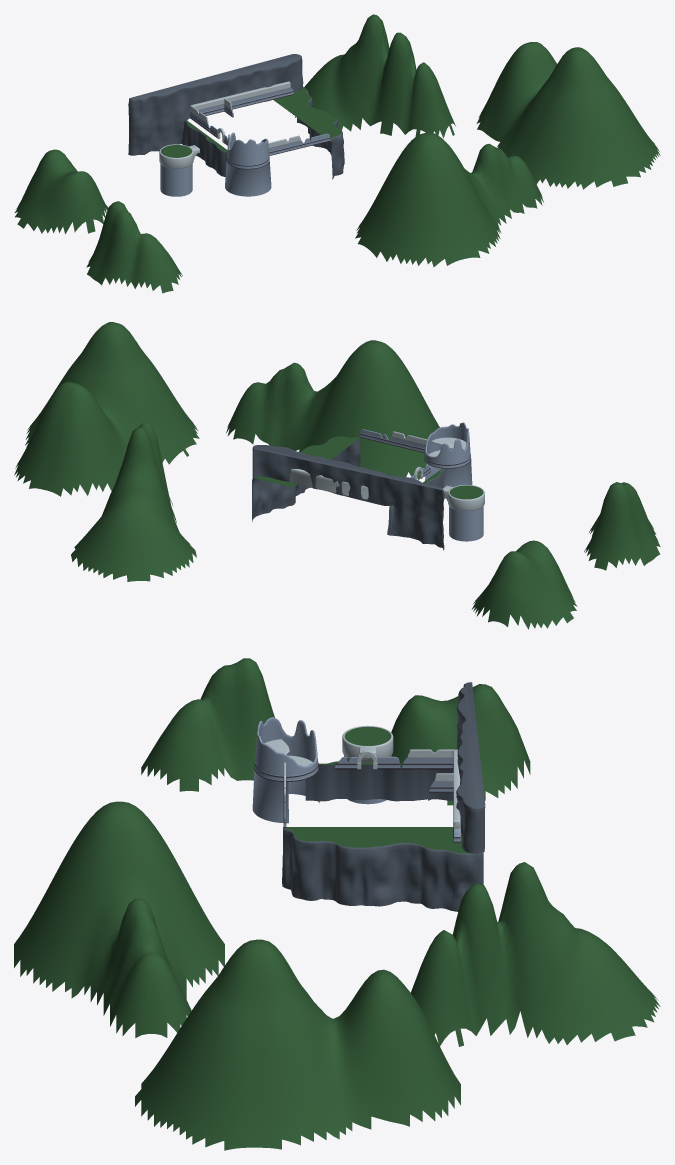
Rendered from basis-1.fbx.
3 views of the same model, one above another, from view 1: azimuth 30°, elevation 25°; view 2: azimuth 150°, elevation 25°; view 3: azimuth 270°, elevation 25° (orthographic). The views are drawn at different scales.
Parts seen in each view (by area): view 1: Mountain.001, Mountain.002, Mountain, StoneCliff, Mountain.003, Mountain.004, Tower, Grid, RightWall.001, Grid.001, Cylinder.001, Cylinder (+1 smaller); view 2: Mountain.001, Mountain.002, Mountain, StoneCliff, Mountain.003, Mountain.004, Grid, Tower, Cylinder.001, Cylinder, RightWall.001, LeftWall; view 3: Mountain.001, Mountain.002, Mountain, Grid, Mountain.004, Mountain.003, Tower, Grid.001, StoneCliff, RightWall.001, Cylinder.
Boxes of the visible parts, x1,y1,x2,y2 form: Mountain.001: (476, 42, 660, 189); Mountain.002: (355, 132, 543, 267); Mountain: (295, 14, 455, 138); StoneCliff: (128, 54, 303, 155); Mountain.003: (14, 149, 108, 234); Mountain.004: (86, 201, 182, 293); Tower: (225, 132, 271, 196); Grid: (273, 87, 344, 179); RightWall.001: (189, 81, 294, 131); Grid.001: (181, 119, 227, 176); Cylinder.001: (160, 164, 192, 196); Cylinder: (159, 144, 193, 168); Mountain.001: (14, 322, 199, 496); Mountain.002: (226, 340, 439, 480); Mountain: (71, 423, 196, 581); StoneCliff: (252, 445, 444, 550); Mountain.003: (471, 540, 577, 629); Mountain.004: (584, 482, 660, 570); Grid: (252, 436, 360, 521); Tower: (424, 422, 472, 498); Cylinder.001: (449, 506, 483, 541); Cylinder: (448, 484, 484, 511); RightWall.001: (289, 469, 368, 499); LeftWall: (360, 429, 427, 453); Mountain.001: (135, 939, 460, 1150); Mountain.002: (14, 801, 224, 1037); Mountain: (410, 862, 660, 1046); Grid: (282, 827, 483, 911); Mountain.004: (141, 658, 274, 791); Mountain.003: (391, 684, 530, 805); Tower: (252, 717, 319, 823); Grid.001: (305, 761, 453, 801); StoneCliff: (456, 682, 485, 854); RightWall.001: (402, 749, 460, 842); Cylinder: (342, 725, 393, 758).
Bounding box in the file's own units: 15100 × 2751 × 10118.
